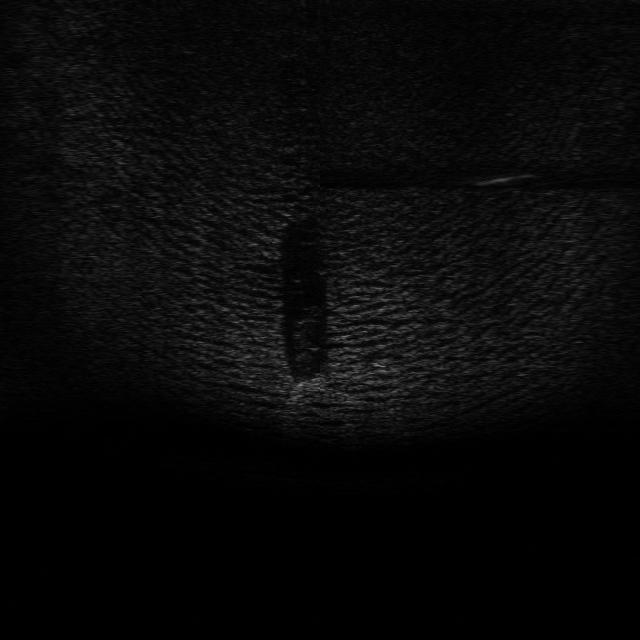cube: (282, 374, 334, 408)
